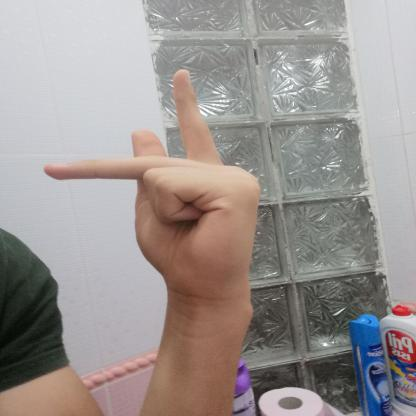DHAA: (26, 58, 276, 306)
